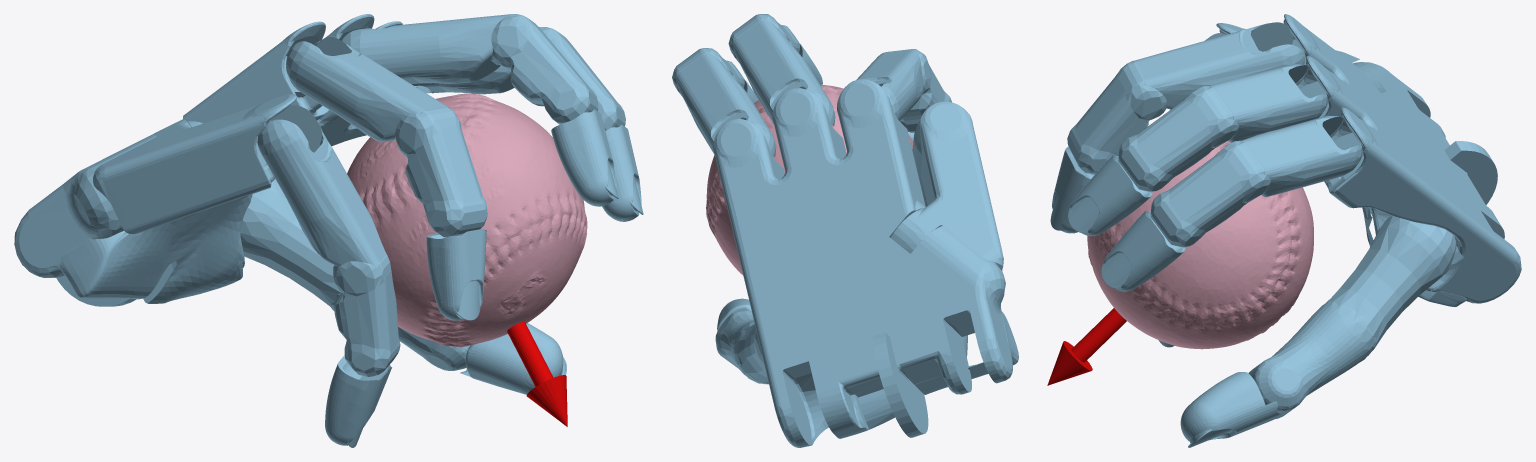
3 renders of one model, left to right at view 1: azimuth 30°, elevation 25°; view 2: azimuth 150°, elevation 25°; view 3: azimuth 270°, elevation 25°, orthographic. The views are drawn at different scales.
Parts seen in each view (by area): view 1: world, baseball.stl; view 2: world, baseball.stl; view 3: world, baseball.stl.
Boxes of the visible parts, <box> form: world: <box>14,14,643,447</box>; baseball.stl: <box>347,93,587,347</box>; world: <box>672,14,1018,447</box>; baseball.stl: <box>706,84,913,275</box>; world: <box>1047,14,1521,447</box>; baseball.stl: <box>1087,141,1313,349</box>.
Bounding box in the file's own units: 0.1634 × 0.1229 × 0.1517.
